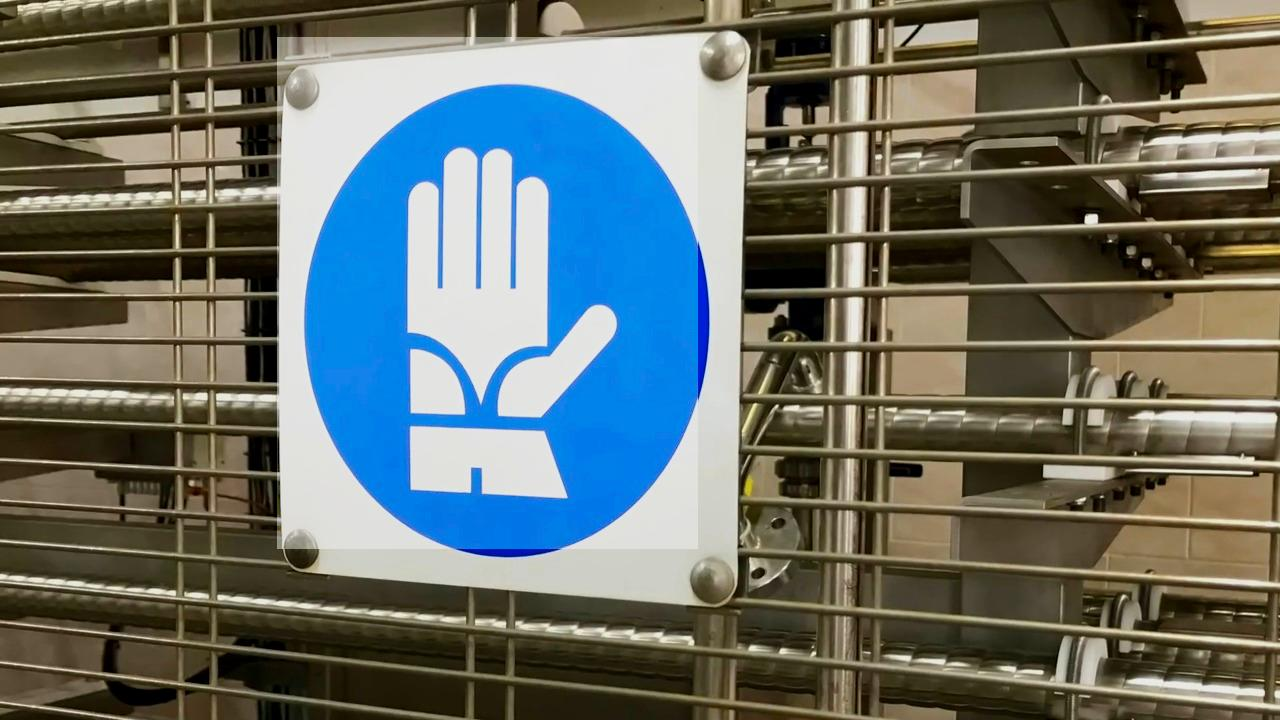safety_signage: (278, 37, 699, 549)
